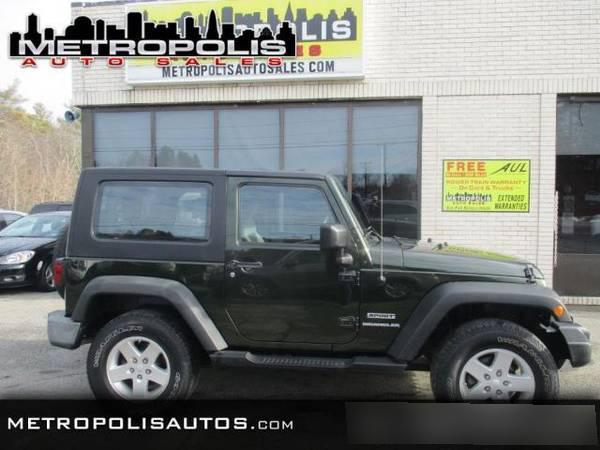Front_Bumper: (552, 321, 592, 371)
Front_Fender: (356, 267, 569, 362)
Front_Right_Door: (224, 248, 359, 354)
Front_Right_Window: (225, 176, 347, 252)
Hood: (361, 234, 537, 277)
Rear_Bumper: (46, 310, 82, 350)
Rear_Fender: (63, 179, 244, 352)
Roof: (69, 165, 367, 252)
Wheel: (430, 317, 561, 431), (83, 306, 195, 414)
